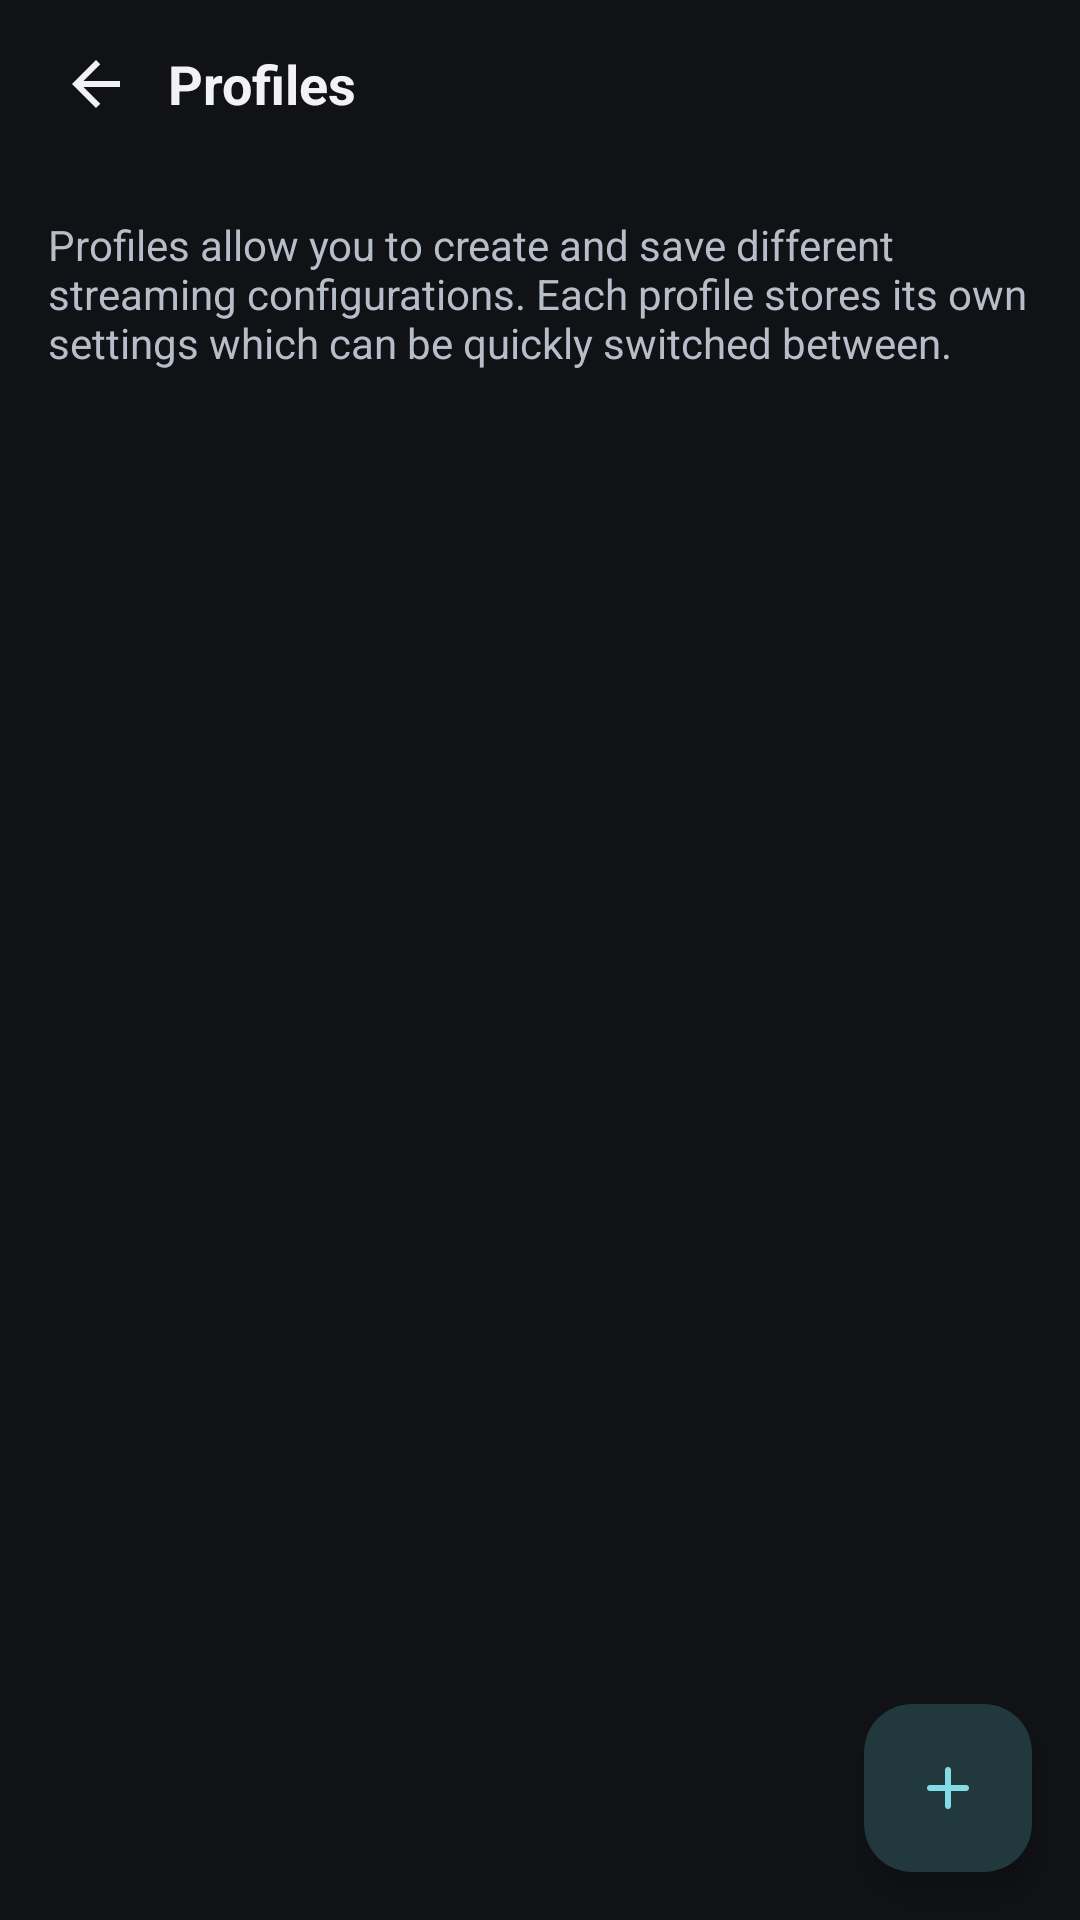

Where to tap for icons on this 1080px×1920px app screen, as [x,y]:
Back: [96,84]
New Profile: [948,1788]
